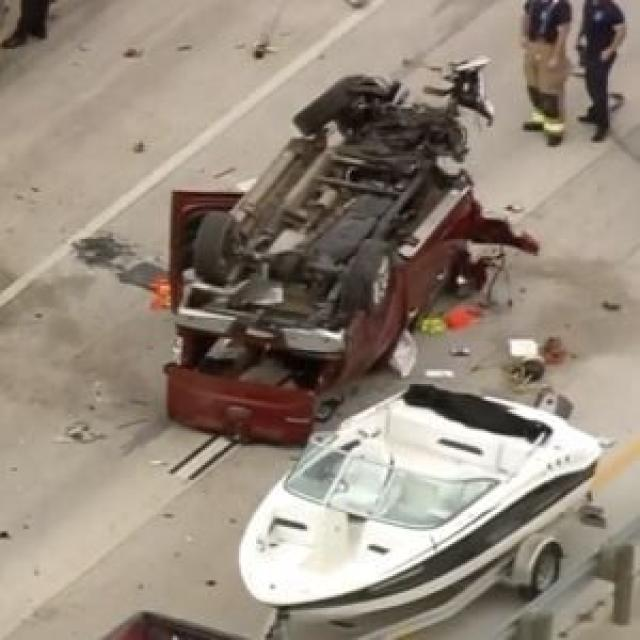traffic_incident: (168, 60, 478, 446)
